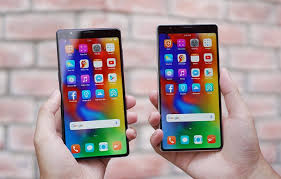bphone: (54, 26, 133, 160), (150, 20, 226, 154)
